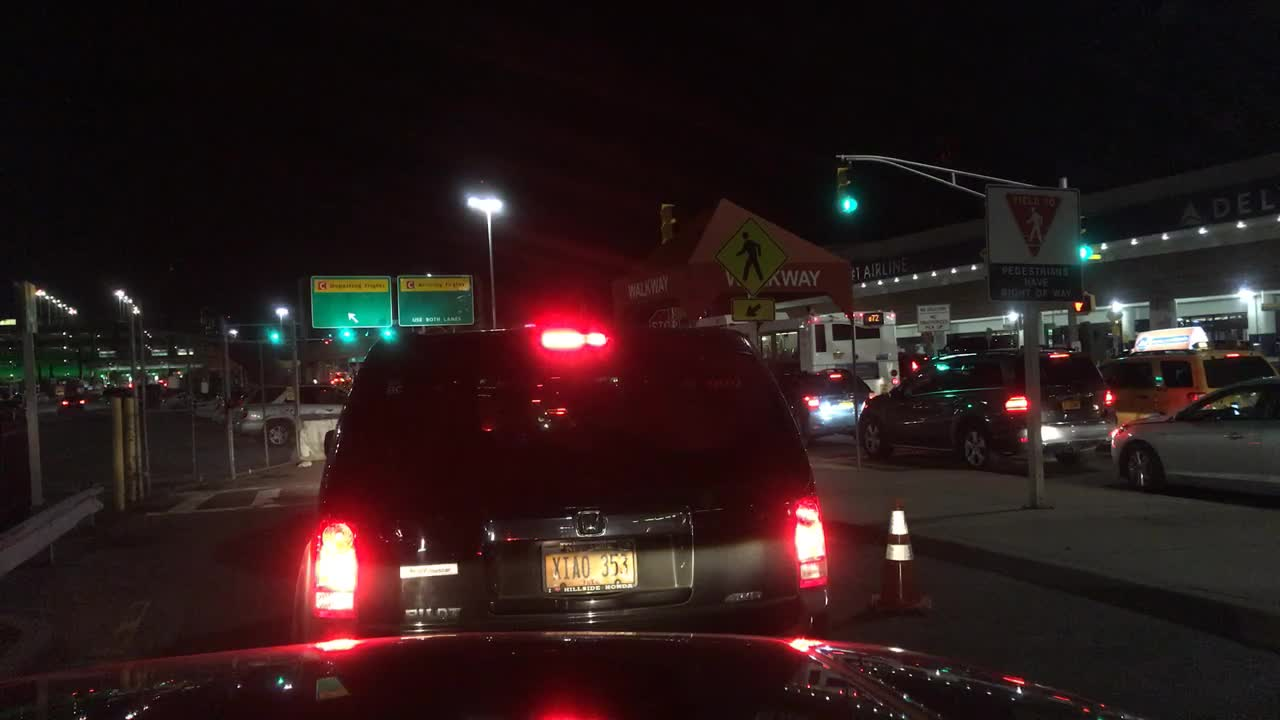bus: (798, 307, 896, 400)
car: (292, 324, 828, 644), (860, 344, 1119, 471), (1108, 374, 1279, 498), (1097, 324, 1279, 428), (779, 368, 874, 442), (195, 388, 239, 420), (246, 383, 293, 411), (896, 349, 930, 381), (103, 378, 133, 403), (138, 380, 163, 408), (57, 390, 84, 413), (162, 373, 185, 390)
traffic light: (833, 164, 857, 219), (1076, 216, 1090, 260), (1070, 290, 1094, 314), (336, 327, 354, 341), (379, 327, 396, 341), (266, 329, 283, 342)
traffic sign: (984, 182, 1081, 309), (712, 216, 788, 293), (312, 273, 393, 327), (395, 273, 472, 327), (732, 295, 774, 320), (914, 302, 948, 331)
truck: (239, 380, 350, 451)
